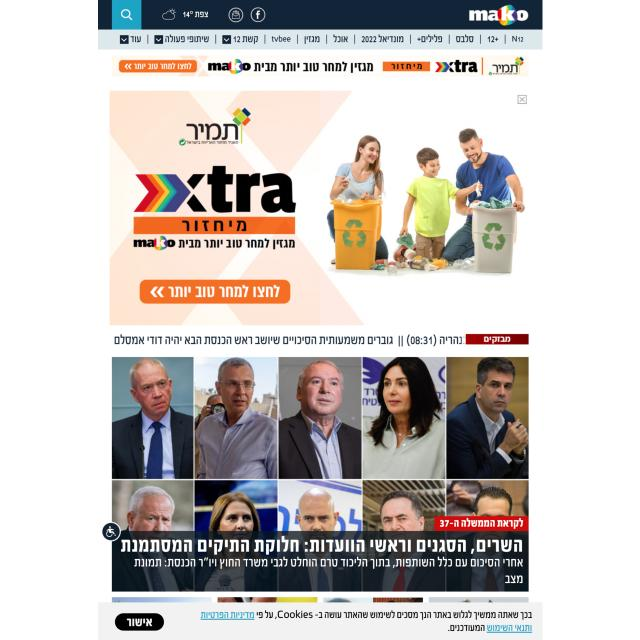logo: (465, 2, 532, 27)
navigation: (98, 31, 542, 49)
